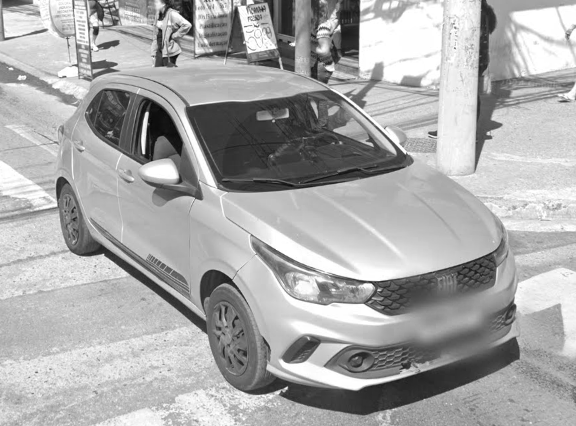car: (53, 64, 520, 399)
